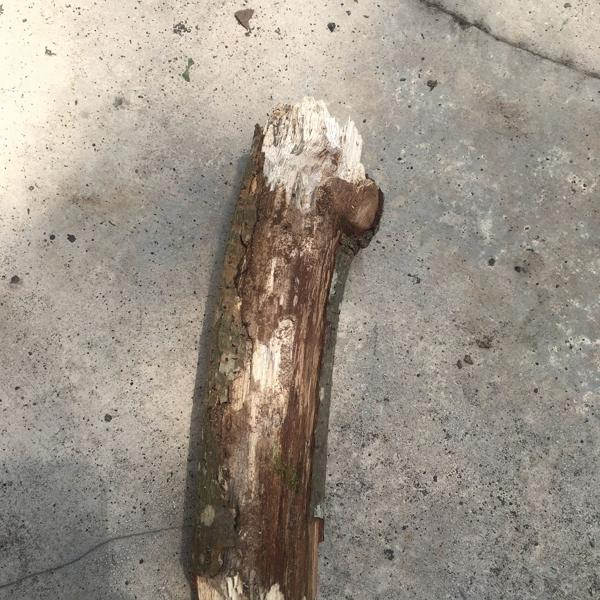Organik: (183, 80, 377, 600)
